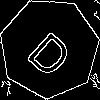D: (24, 23, 81, 80)
